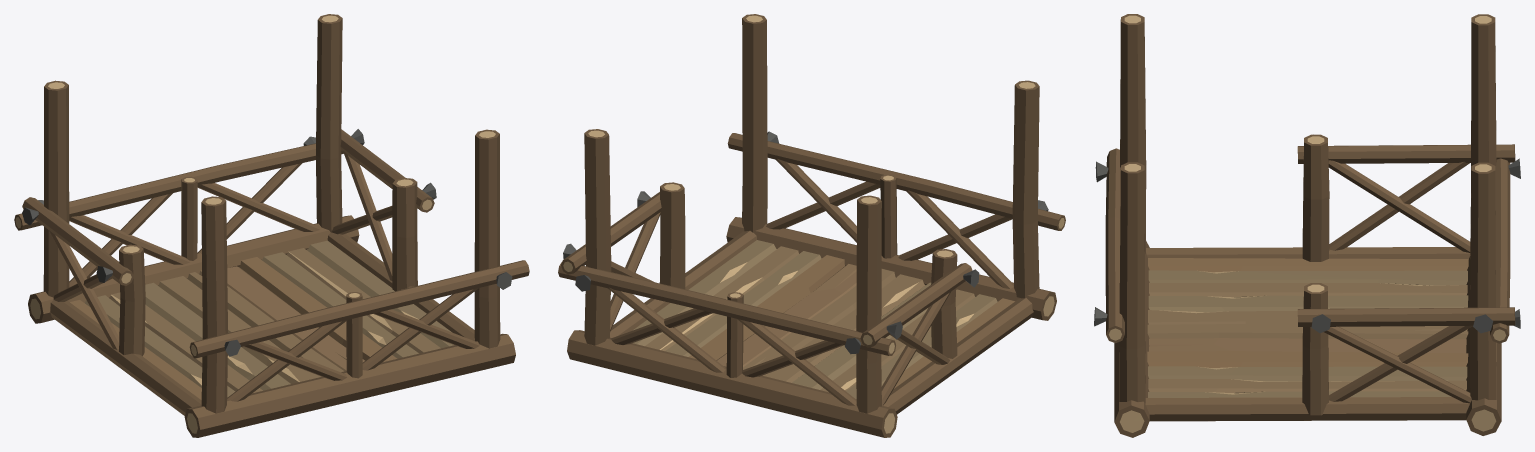
Rendered from rpgpp_ag_gate_balcony_03_platform_01a.fbx.
The picture shows the model from 3 angles, left to right: view 1: azimuth 30°, elevation 25°; view 2: azimuth 150°, elevation 25°; view 3: azimuth 270°, elevation 25°; orthographic projection. The views are drawn at different scales.
Visible parts, largest first — view 1: rpgpp_ag_gate_balcony_03_platform_01a; view 2: rpgpp_ag_gate_balcony_03_platform_01a; view 3: rpgpp_ag_gate_balcony_03_platform_01a.
Boxes of the visible parts, x1,y1,x2,y2 form: rpgpp_ag_gate_balcony_03_platform_01a: (14, 14, 529, 437); rpgpp_ag_gate_balcony_03_platform_01a: (558, 14, 1065, 437); rpgpp_ag_gate_balcony_03_platform_01a: (1094, 14, 1520, 437).
Size of the model in its own units: 4.84 by 3.22 by 4.81.
